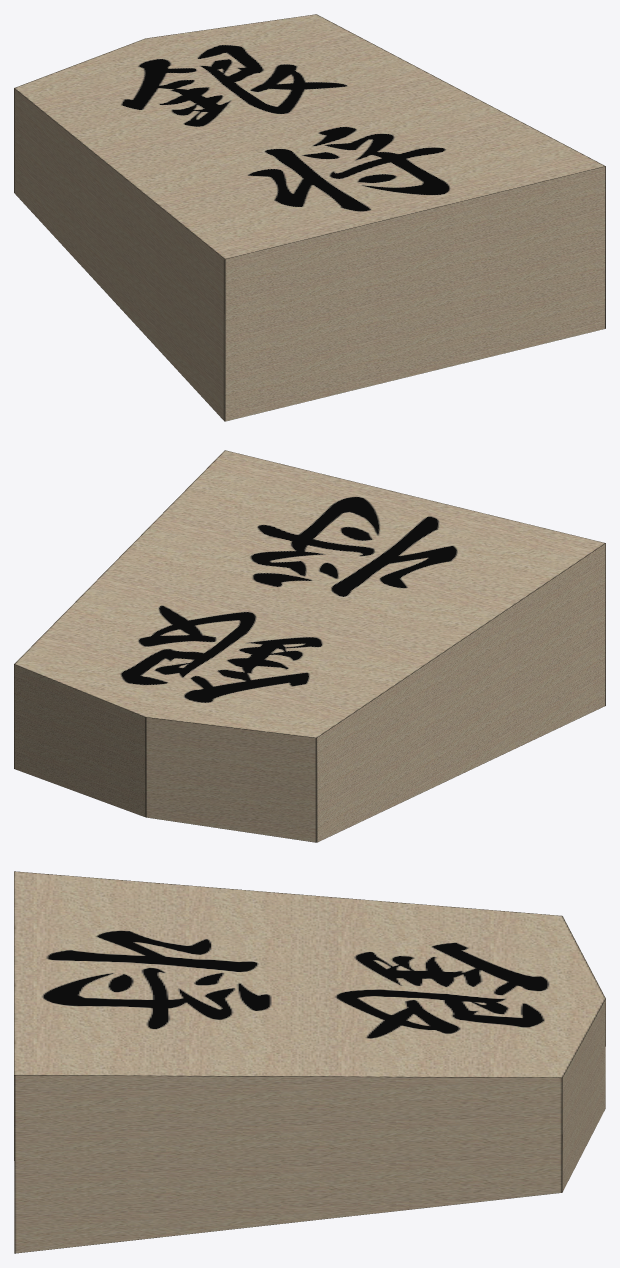
Rendered from 05_Ginsho.fbx.
3 renders of one model, top to bottom at view 1: azimuth 30°, elevation 25°; view 2: azimuth 150°, elevation 25°; view 3: azimuth 270°, elevation 25°, orthographic. The views are drawn at different scales.
Visible parts, largest first — view 1: 05_Ginsho; view 2: 05_Ginsho; view 3: 05_Ginsho.
Part boxes in pixels (<box>): 05_Ginsho: <box>14,14,605,421</box>; 05_Ginsho: <box>14,450,605,842</box>; 05_Ginsho: <box>14,871,605,1253</box>.
Size of the model in its own units: 0.63 by 0.7727 by 0.2568.
1 material, 1 textured.
